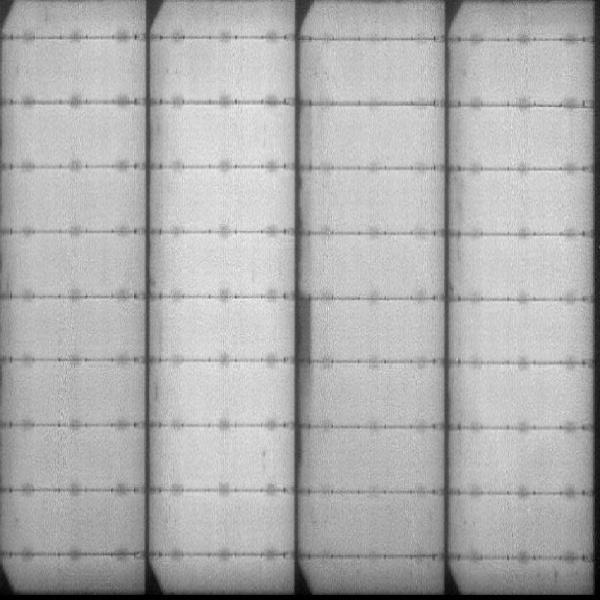black_border: (293, 291, 312, 492)
